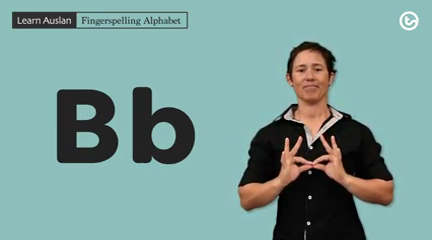B: (276, 132, 347, 180)
